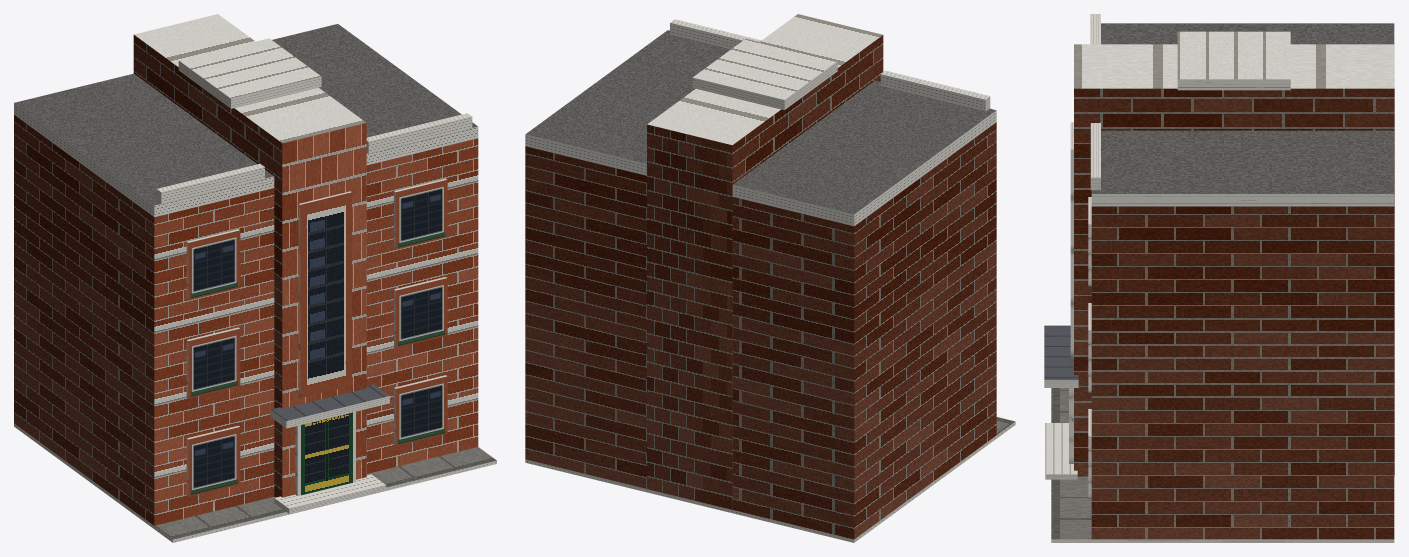
File: building_london_flats_03.glb
3 views of the same model, side by side, from view 1: azimuth 30°, elevation 25°; view 2: azimuth 150°, elevation 25°; view 3: azimuth 270°, elevation 25° (orthographic). The views are drawn at different scales.
Parts seen in each view (by area): view 1: Building_London_Flats_03; view 2: Building_London_Flats_03; view 3: Building_London_Flats_03.
Part boxes in pixels (x1,y1,x2,y2): Building_London_Flats_03: (14,14,496,542); Building_London_Flats_03: (525,14,1015,542); Building_London_Flats_03: (1044,14,1394,542).
Bounding box in the file's own units: 10 × 11 × 8.68.
1 material, 1 textured.
